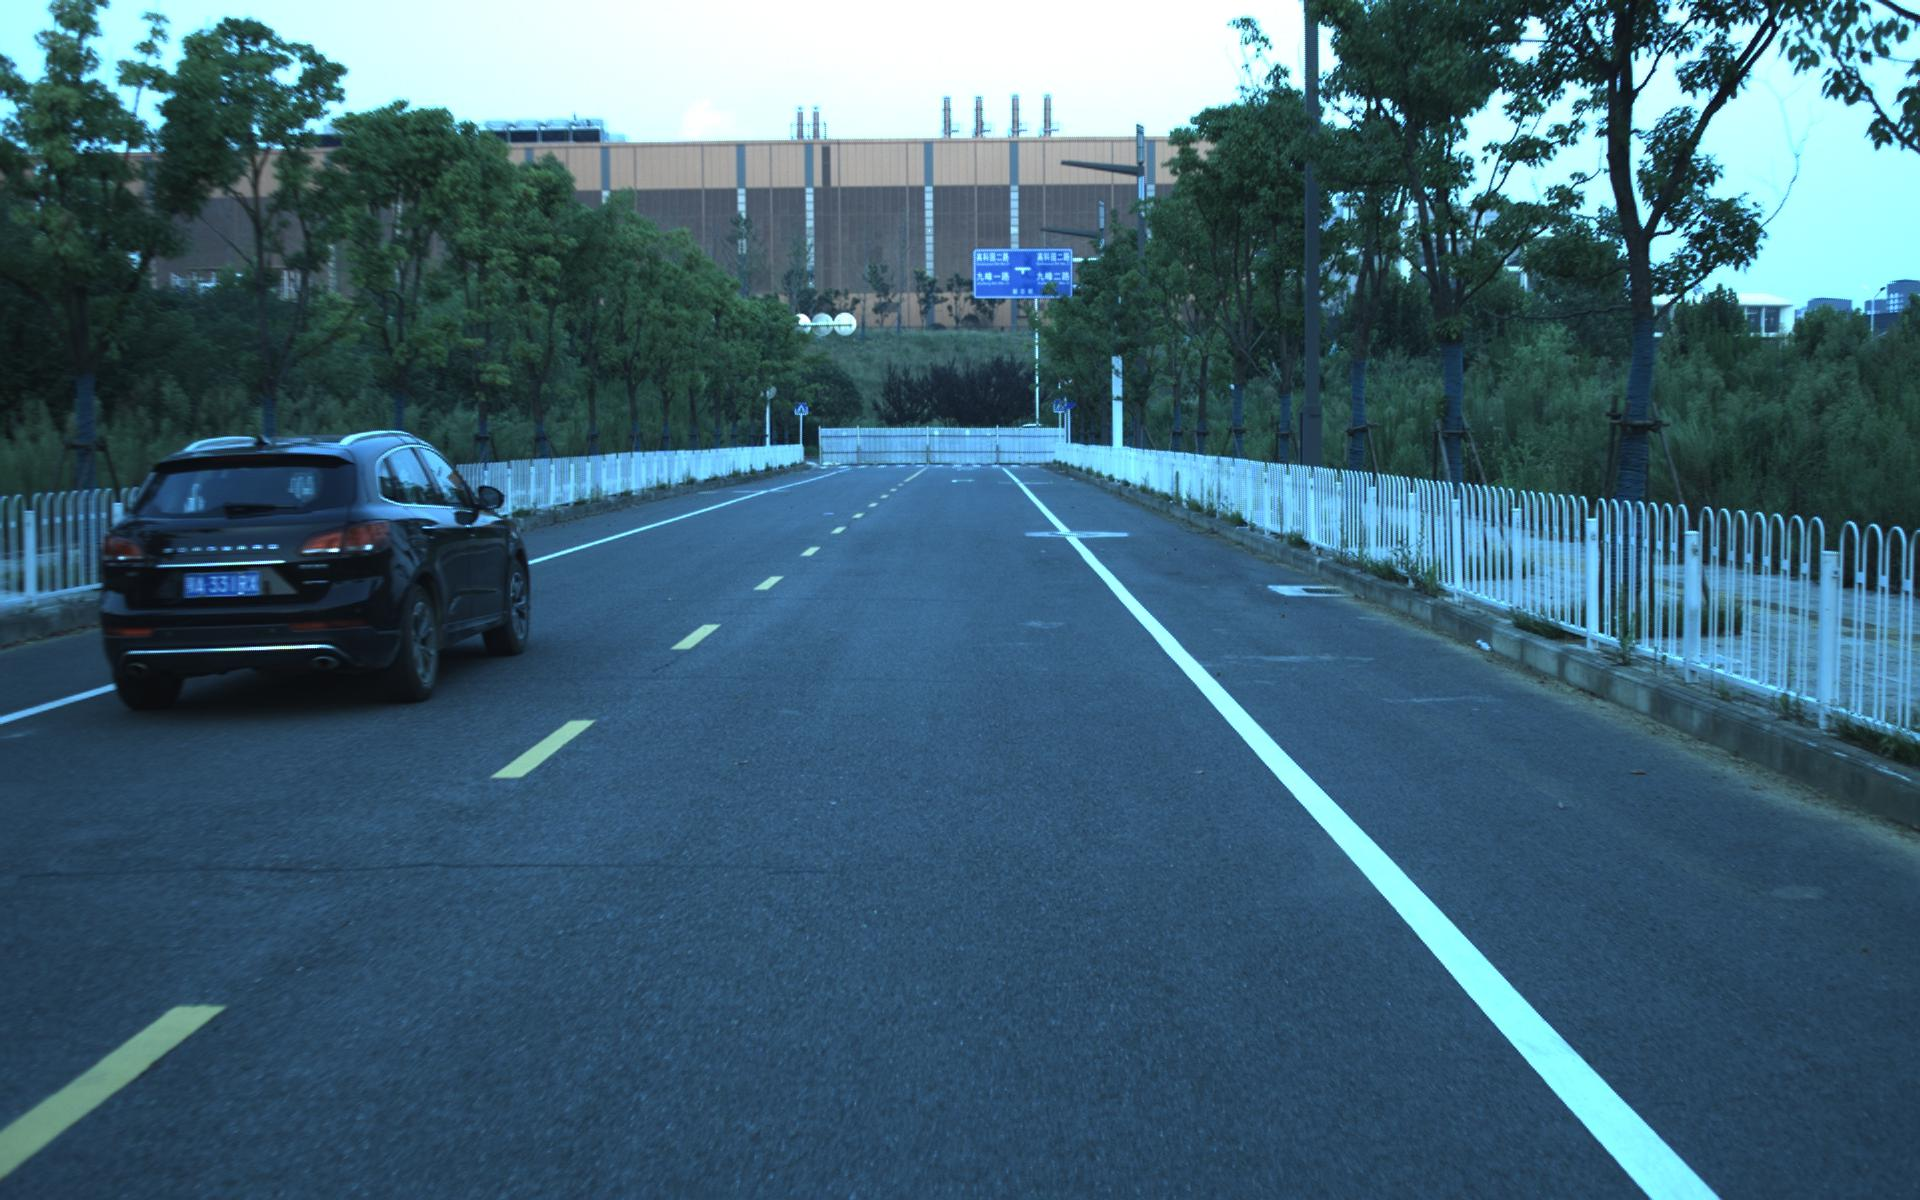Car: (77, 422, 538, 718)
